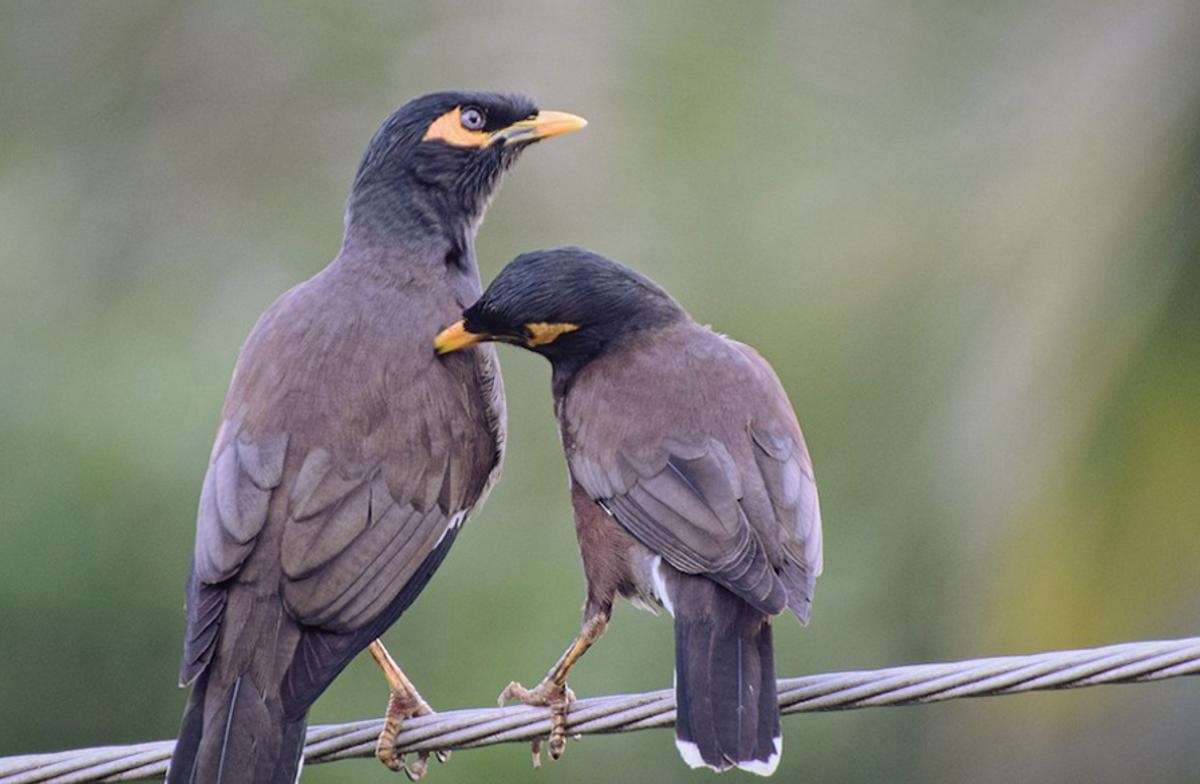myna: (100, 69, 596, 708), (449, 222, 865, 782)
